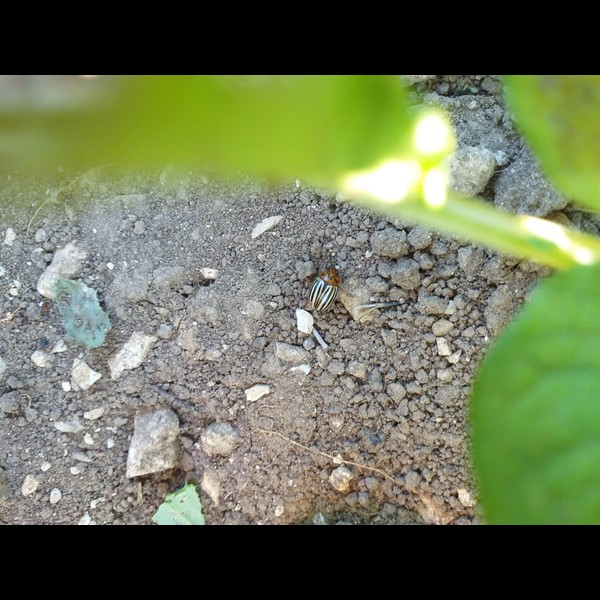hrosc: (308, 265, 342, 315)
